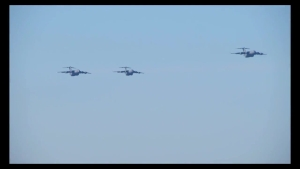flight: (229, 46, 267, 58), (57, 65, 92, 77), (112, 65, 145, 76)
